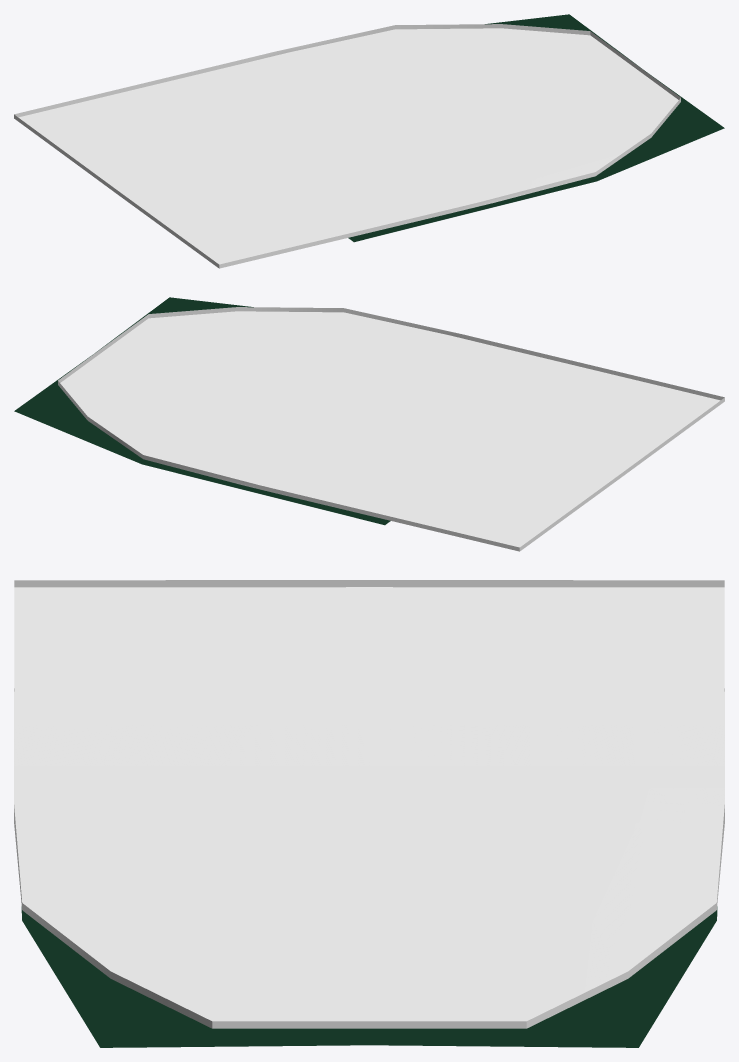
The model's file is Ship Floor 1.fbx.
3 views of the same model, one above another, from view 1: azimuth 30°, elevation 25°; view 2: azimuth 150°, elevation 25°; view 3: azimuth 270°, elevation 25° (orthographic). The views are drawn at different scales.
Parts seen in each view (by area): view 1: Control tower_White_0.180, Floor_green_deck_0.009; view 2: Control tower_White_0.180, Floor_green_deck_0.009; view 3: Control tower_White_0.180, Floor_green_deck_0.009.
Boxes of the visible parts, bbox=[...] form: Control tower_White_0.180: bbox=[14, 24, 680, 268]; Floor_green_deck_0.009: bbox=[348, 14, 724, 242]; Control tower_White_0.180: bbox=[58, 307, 724, 551]; Floor_green_deck_0.009: bbox=[14, 297, 390, 525]; Control tower_White_0.180: bbox=[14, 580, 724, 1028]; Floor_green_deck_0.009: bbox=[21, 906, 717, 1047].
Bounding box in the file's own units: 1748 × 36 × 1171.
